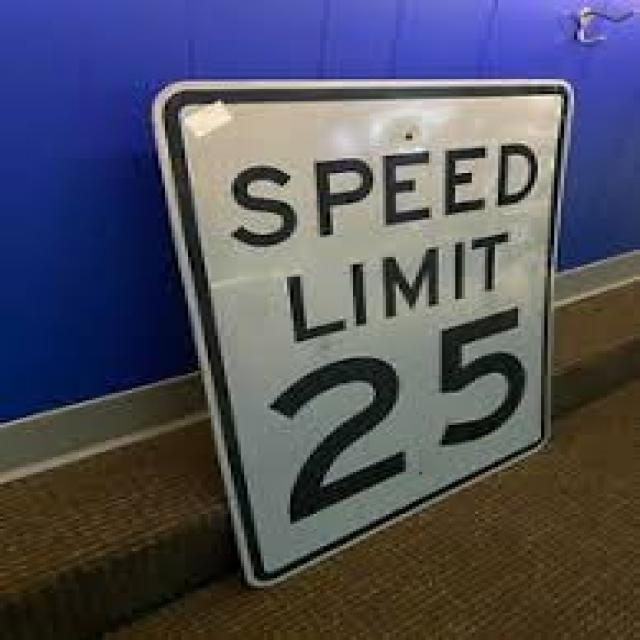speedLimit25: (144, 86, 569, 574)
